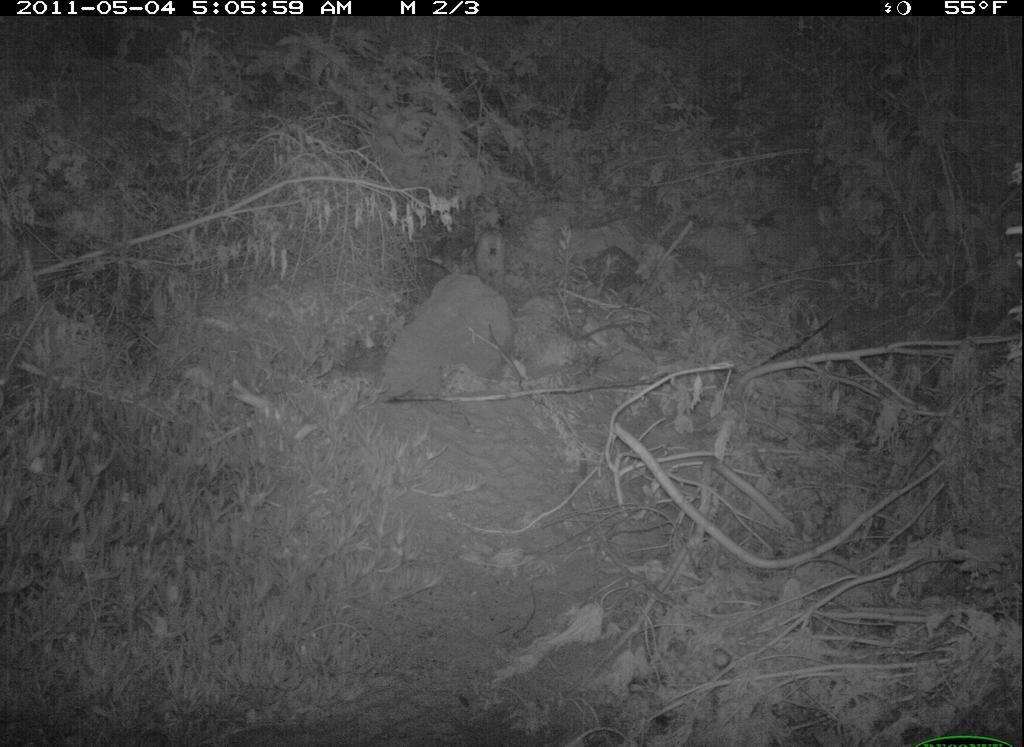bobcat: (474, 219, 511, 299)
